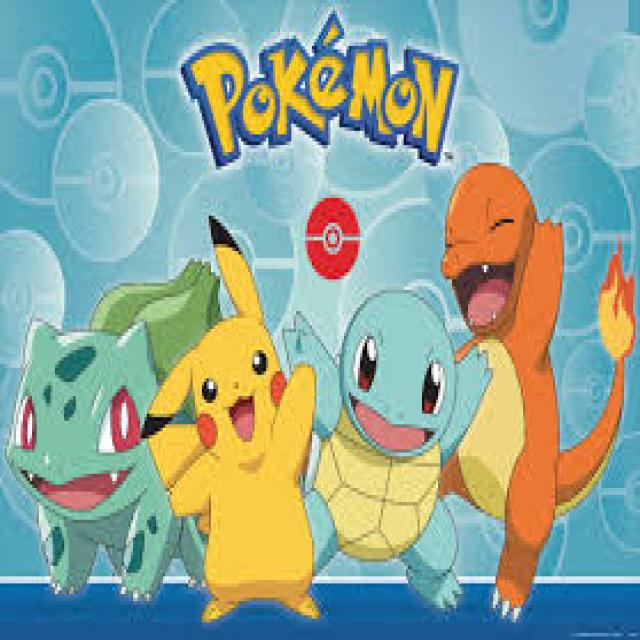Bulbasaur: (14, 280, 181, 596)
Charmander: (444, 160, 578, 610)
Pikachu: (184, 315, 320, 620)
Squirtle: (319, 287, 457, 606)
